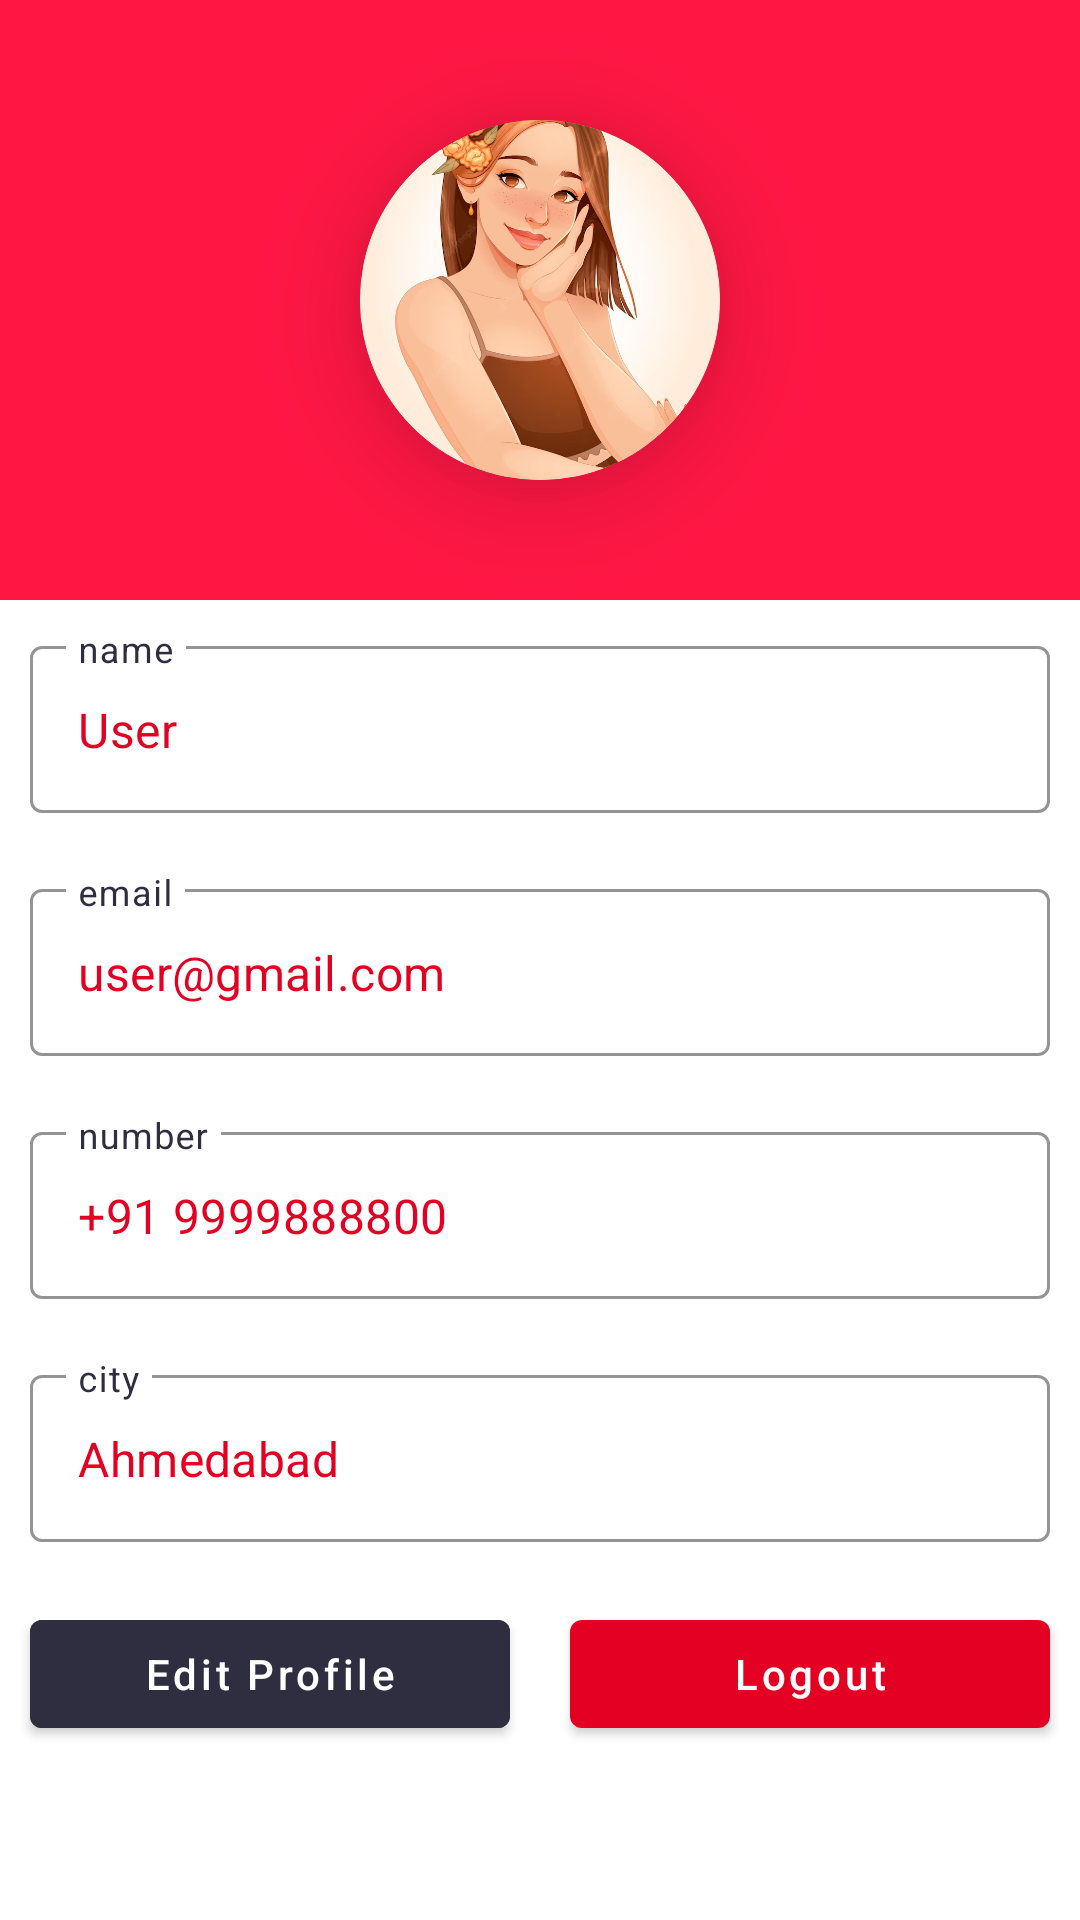

Screen size 1080 x 1920. Icon name, then its box in pixels as (x1, y1, x2, y2):
profile: (360, 120, 720, 480)
